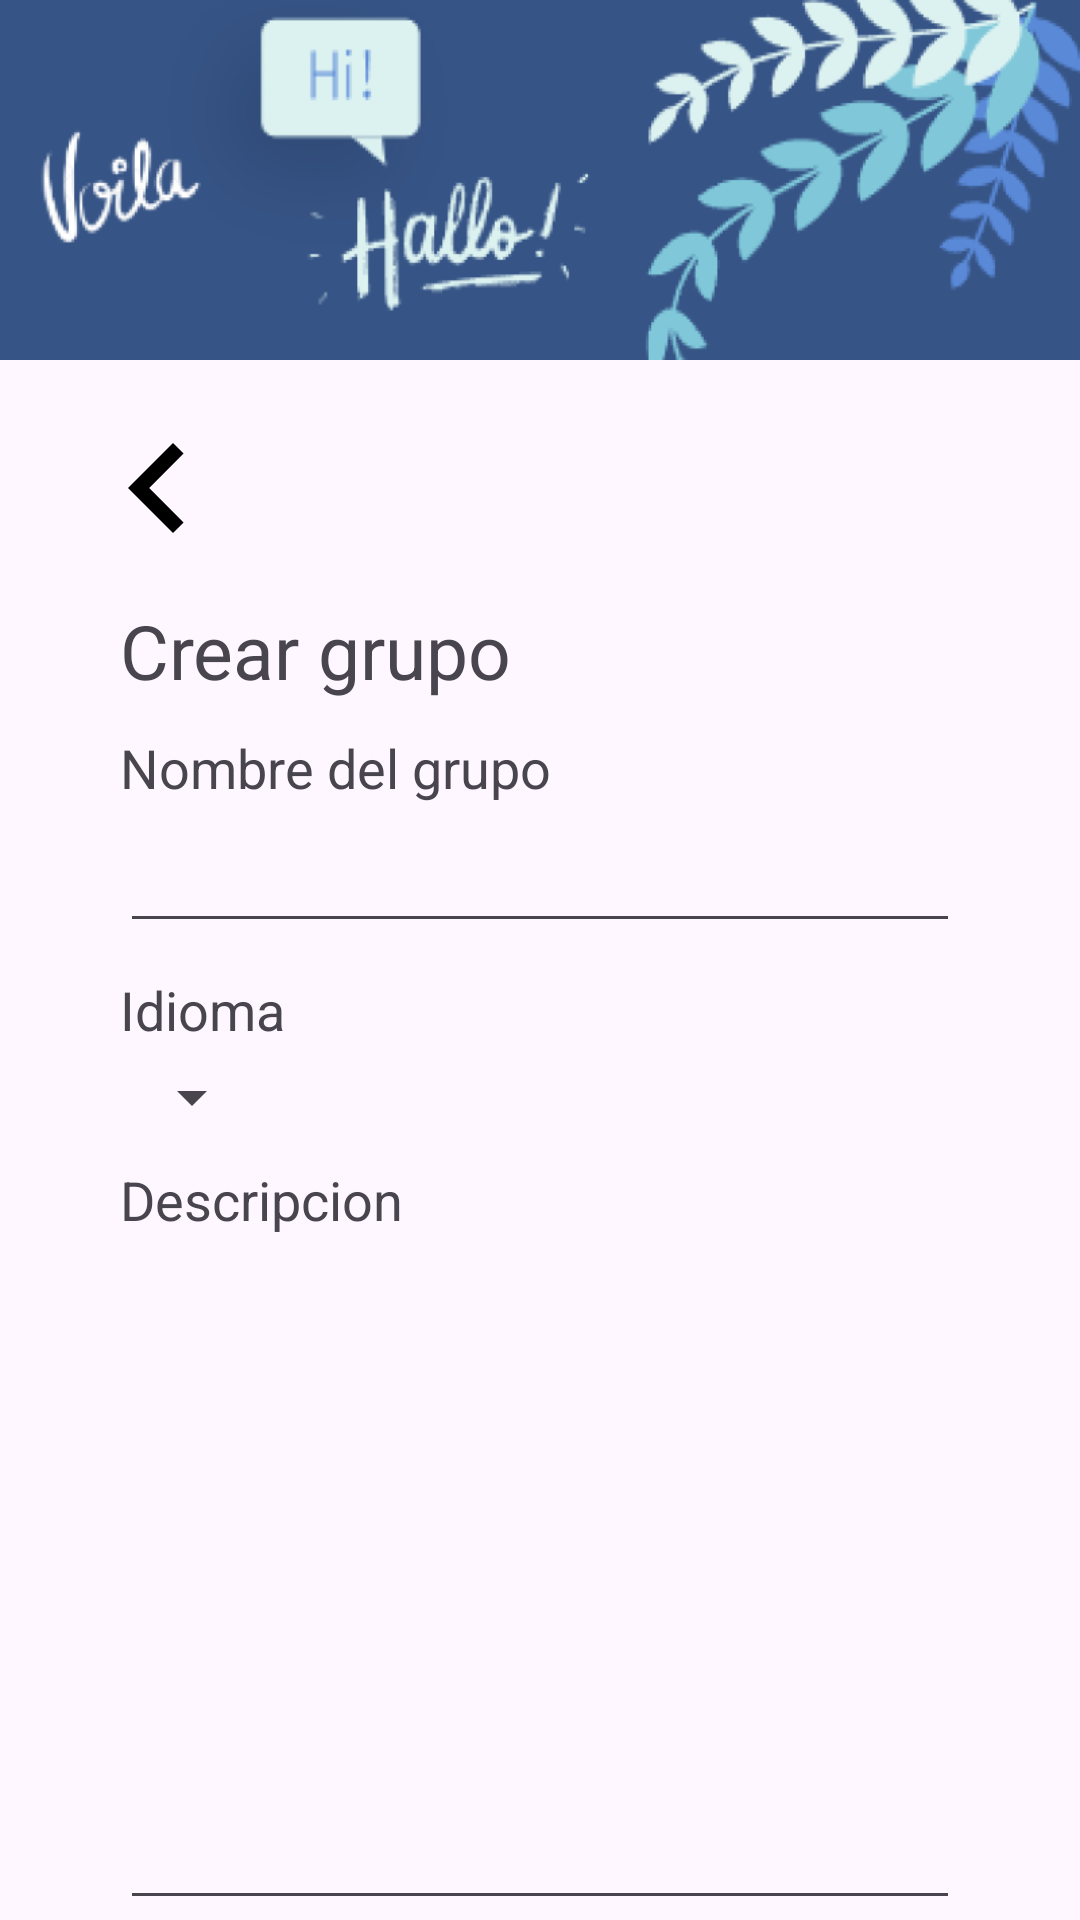

Where to tap for icons on this 1080px x 1920px app screen, as [x,y]:
chevron left: [156,488]
